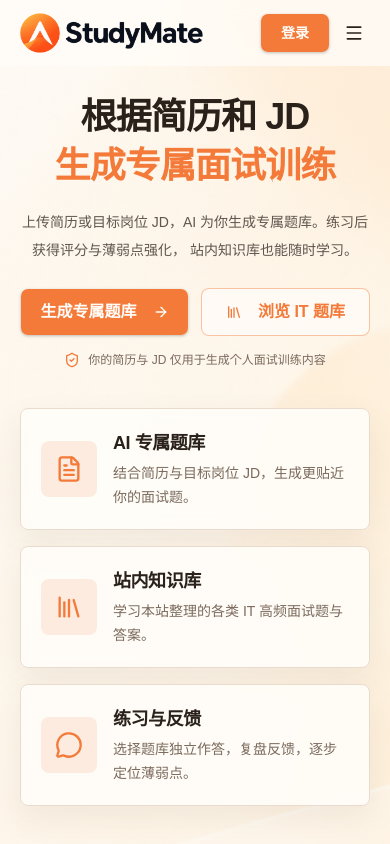
it: StudyMate home page › opens and closes the mobile navigation
The width and height of the screenshot is (390, 844).
Click the button named "打开导航菜单" at (354, 33), box left=338, top=17, right=370, bottom=49
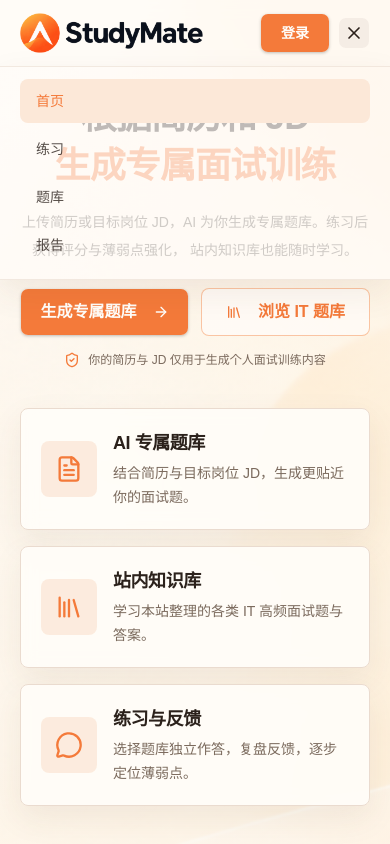
Expected: the button named "打开导航菜单" is expanded
Click the button named "关闭导航菜单" at (354, 33), box left=338, top=17, right=370, bottom=49
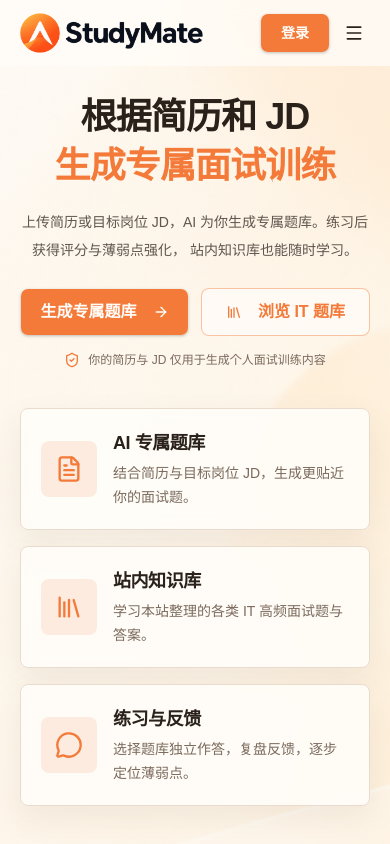
Expected: the navigation bar "移动端导航" is gone
